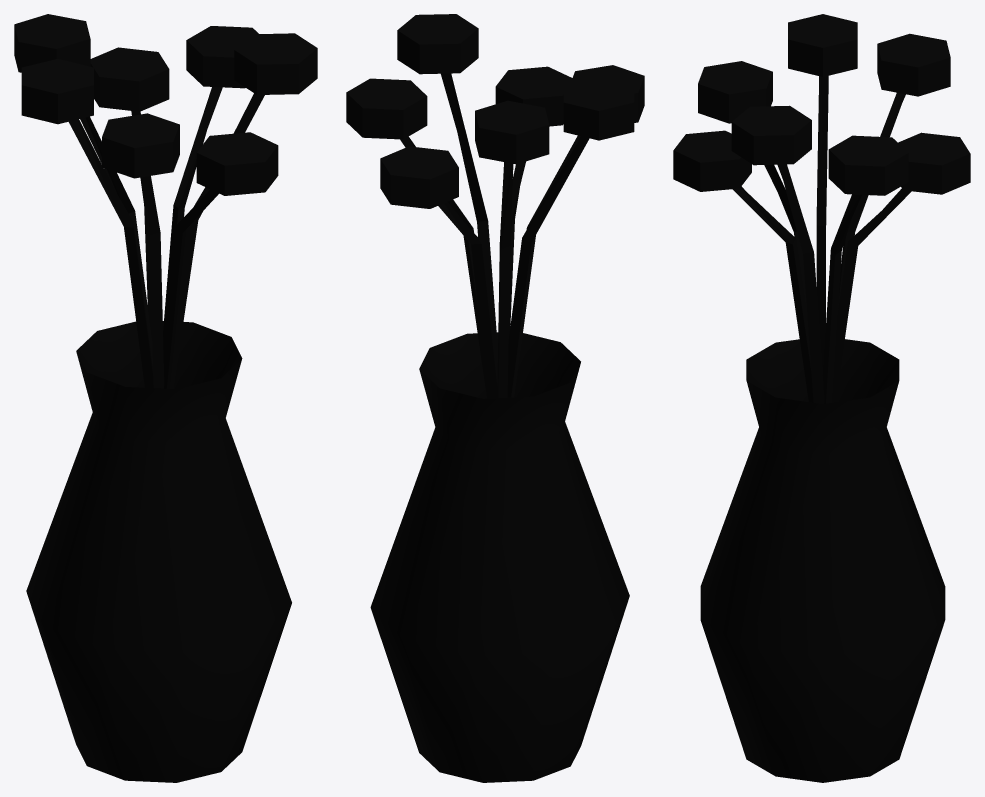
The model's file is SM_vase_dead_flowers.fbx.
3 renders of one model, left to right at view 1: azimuth 30°, elevation 25°; view 2: azimuth 150°, elevation 25°; view 3: azimuth 270°, elevation 25°, orthographic. The views are drawn at different scales.
Visible parts, largest first — view 1: vase_dead_flowers; view 2: vase_dead_flowers; view 3: vase_dead_flowers.
Boxes of the visible parts, bbox=[...] form: vase_dead_flowers: bbox=[14, 14, 317, 782]; vase_dead_flowers: bbox=[346, 14, 644, 782]; vase_dead_flowers: bbox=[673, 14, 970, 782].
Bounding box in the file's own units: 0.1818 × 0.46 × 0.1847.
